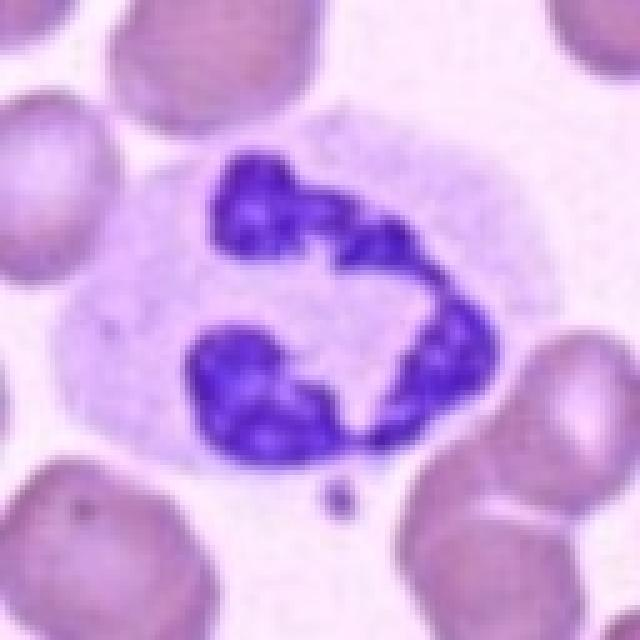neutro: (104, 149, 535, 502)
